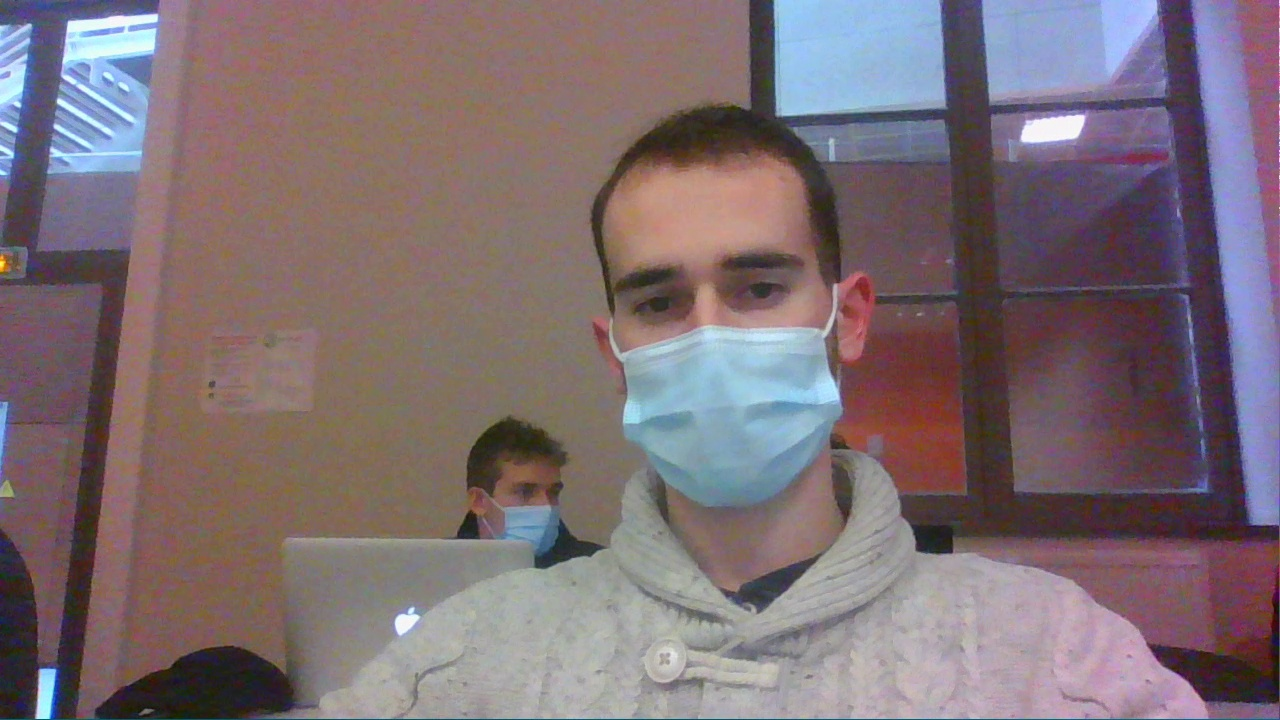mask: (583, 100, 875, 498), (462, 419, 563, 558)
